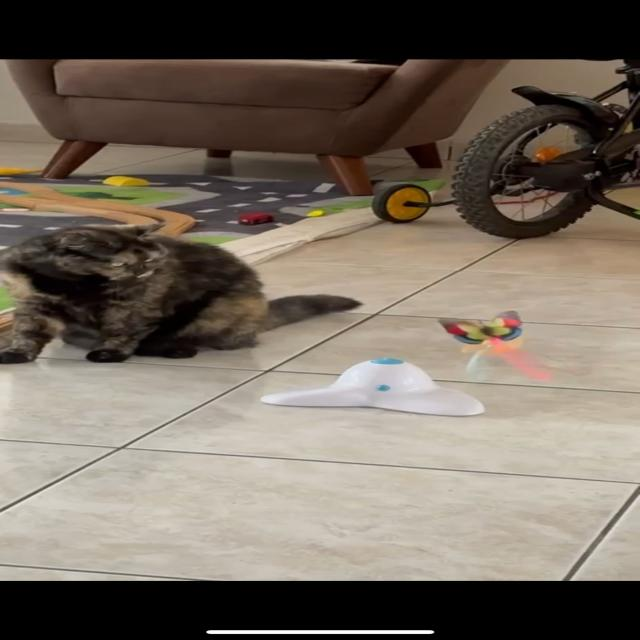authorized: (1, 220, 363, 364)
